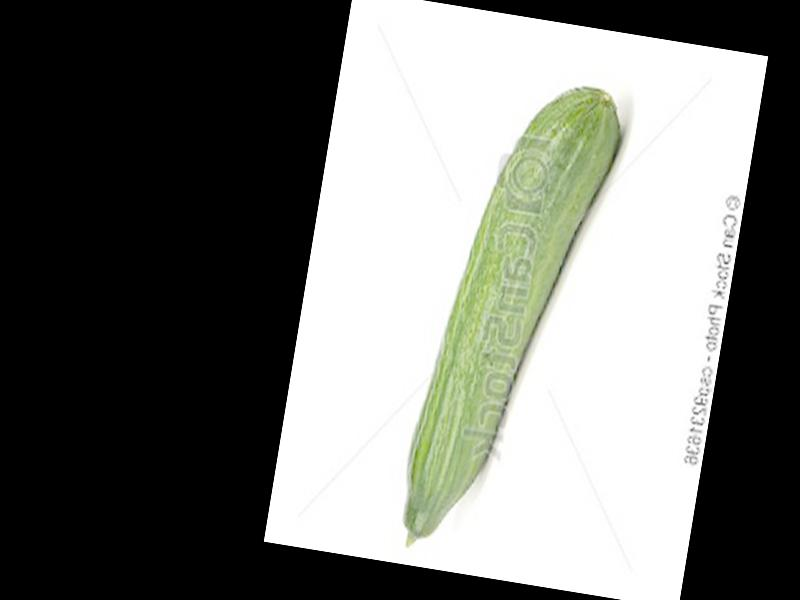Cucumber: (396, 71, 627, 568)
